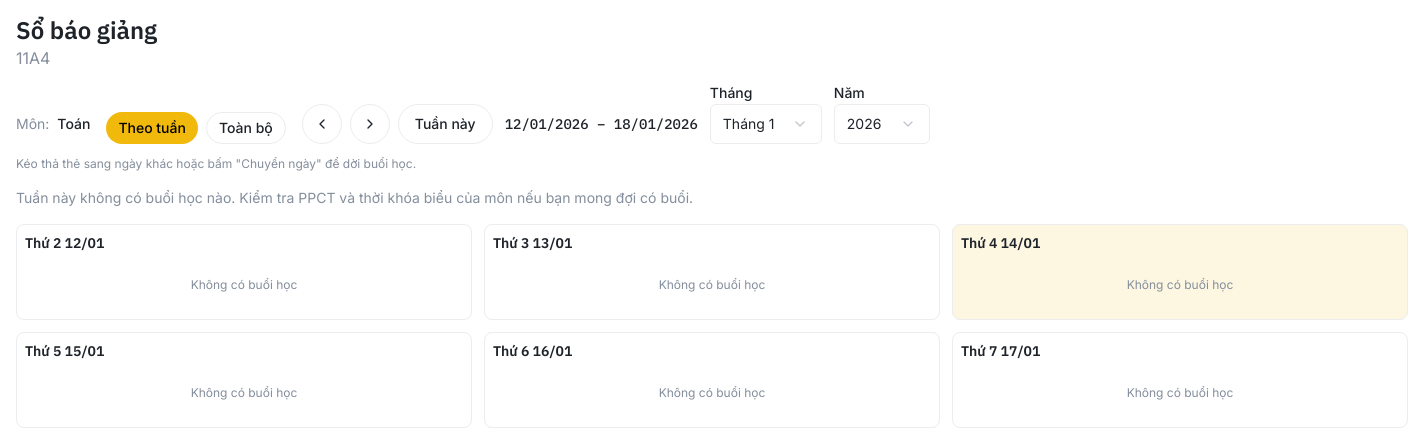
Scenario: chế độ "Toàn bộ" › rỗng → cùng câu giải thích, không có tiêu đề tuần nào
Click the button "Toàn bộ" at (246, 128), box [206,112,286,144]
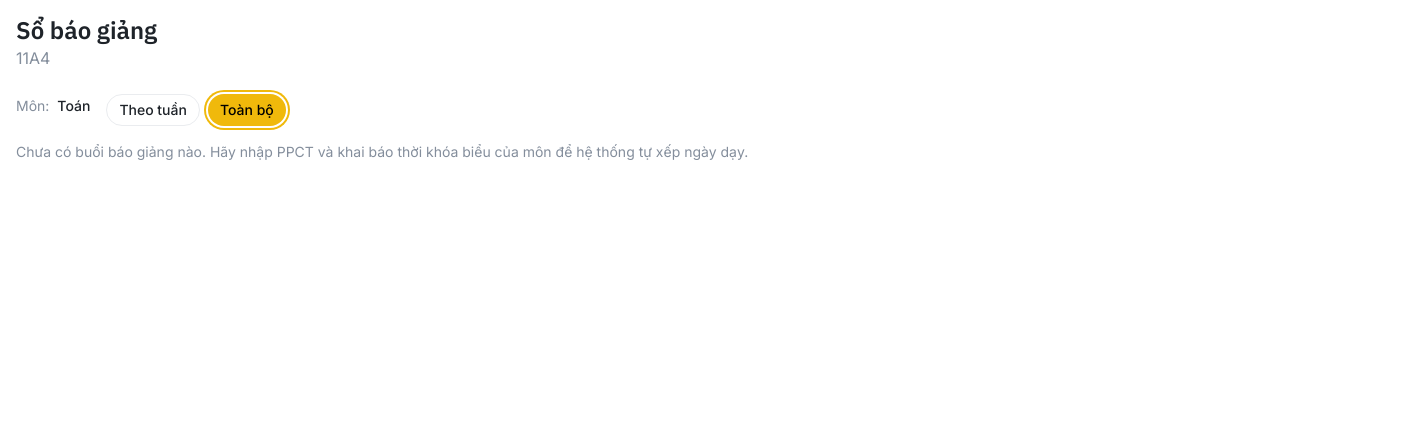
Now the text "Chưa có buổi báo giảng nào" is shown, box [16,143,748,160]
